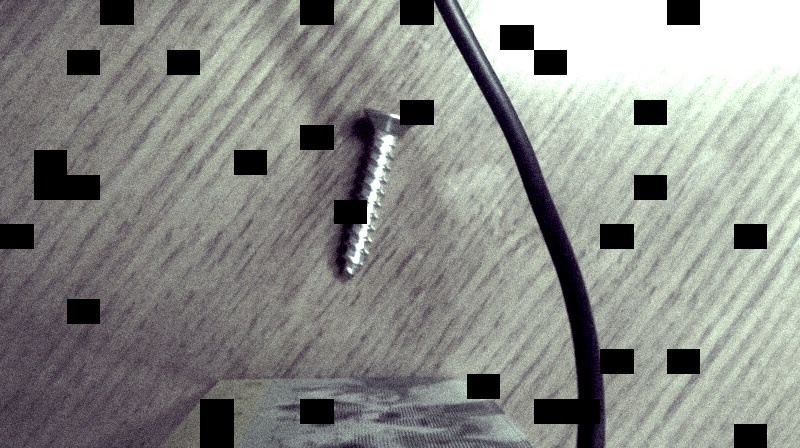S001: (332, 103, 419, 281)
